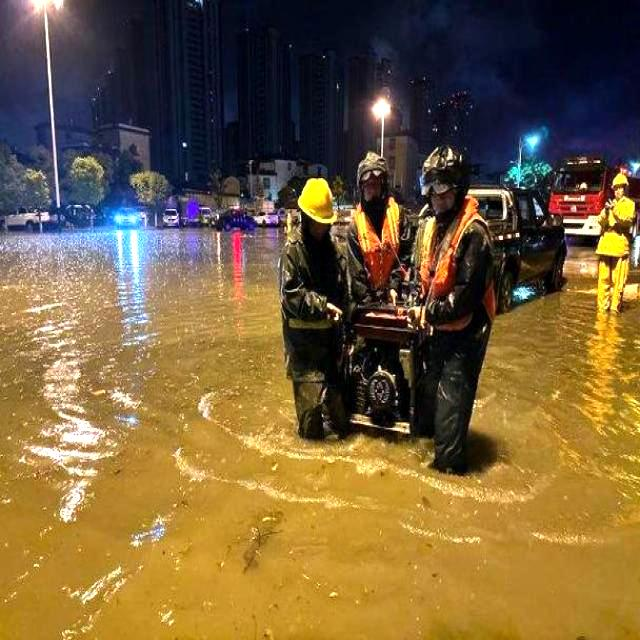rescuer: (402, 130, 504, 490), (278, 147, 360, 458), (350, 138, 411, 306), (592, 168, 637, 325)
